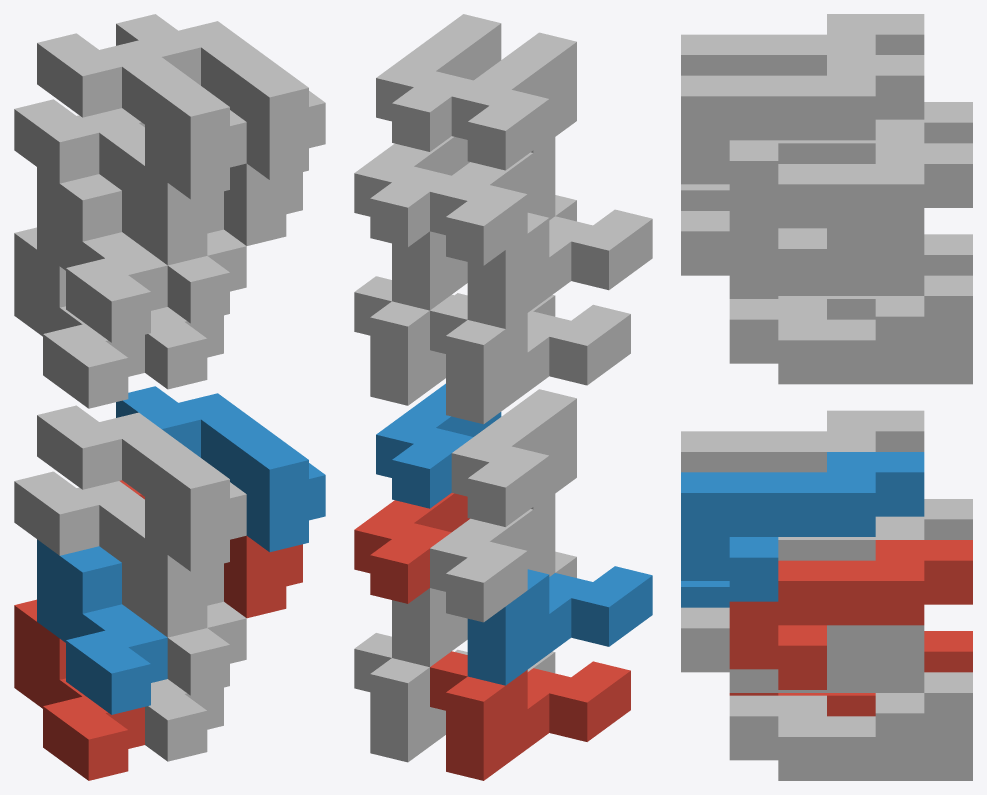
The model's file is tiling.obj.
3 renders of one model, left to right at view 1: azimuth 30°, elevation 25°; view 2: azimuth 150°, elevation 25°; view 3: azimuth 270°, elevation 25°, orthographic. The views are drawn at different scales.
Parts seen in each view (by area): view 1: copy_2_domain_2, copy_2_domain_4, copy_2_domain_1, copy_2_domain_3, copy_1_domain_2, copy_1_domain_4, copy_2_domain_8, copy_2_domain_6, copy_1_domain_3, copy_1_domain_1, copy_1_domain_6, copy_1_domain_8 (+4 smaller); view 2: copy_1_domain_3, copy_1_domain_1, copy_1_domain_4, copy_1_domain_2, copy_2_domain_4, copy_2_domain_2, copy_2_domain_3, copy_2_domain_1, copy_2_domain_8, copy_1_domain_5, copy_1_domain_7, copy_2_domain_7 (+4 smaller); view 3: copy_2_domain_8, copy_2_domain_6, copy_2_domain_5, copy_1_domain_7, copy_1_domain_5, copy_2_domain_7, copy_1_domain_6, copy_1_domain_8, copy_2_domain_2, copy_2_domain_4, copy_2_domain_3, copy_2_domain_1 (+4 smaller).
Boxes of the visible parts, x1,y1,x2,y2 form: copy_2_domain_2: [37, 405, 246, 571]; copy_2_domain_4: [37, 33, 246, 199]; copy_2_domain_1: [14, 471, 223, 637]; copy_2_domain_3: [14, 99, 223, 265]; copy_1_domain_2: [37, 539, 167, 714]; copy_1_domain_4: [37, 167, 167, 342]; copy_2_domain_8: [116, 14, 325, 179]; copy_2_domain_6: [116, 386, 325, 552]; copy_1_domain_3: [14, 227, 144, 408]; copy_1_domain_1: [14, 599, 144, 780]; copy_1_domain_6: [167, 601, 246, 695]; copy_1_domain_8: [167, 229, 246, 323]; copy_1_domain_3: [430, 294, 630, 424]; copy_1_domain_1: [430, 651, 630, 780]; copy_1_domain_4: [467, 209, 652, 328]; copy_1_domain_2: [467, 566, 652, 685]; copy_2_domain_4: [451, 32, 576, 170]; copy_2_domain_2: [451, 389, 576, 526]; copy_2_domain_3: [430, 137, 555, 265]; copy_2_domain_1: [430, 494, 555, 622]; copy_2_domain_8: [376, 14, 501, 151]; copy_1_domain_5: [354, 633, 555, 762]; copy_1_domain_7: [354, 276, 555, 405]; copy_2_domain_7: [354, 136, 469, 247]; copy_2_domain_8: [681, 55, 924, 204]; copy_2_domain_6: [681, 452, 924, 601]; copy_2_domain_5: [729, 540, 972, 689]; copy_1_domain_7: [729, 275, 972, 384]; copy_1_domain_5: [729, 672, 972, 780]; copy_2_domain_7: [729, 143, 972, 292]; copy_1_domain_6: [681, 607, 924, 692]; copy_1_domain_8: [681, 211, 924, 295]; copy_2_domain_2: [681, 410, 924, 472]; copy_2_domain_4: [681, 14, 924, 75]; copy_2_domain_3: [778, 102, 972, 163]; copy_2_domain_1: [778, 499, 972, 560].
Size of the model in its own units: 6 by 16 by 6.
